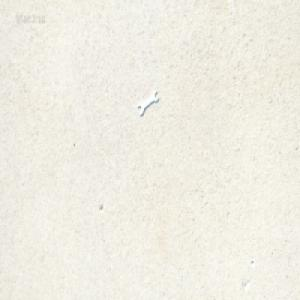Wrench: (137, 89, 159, 116)
